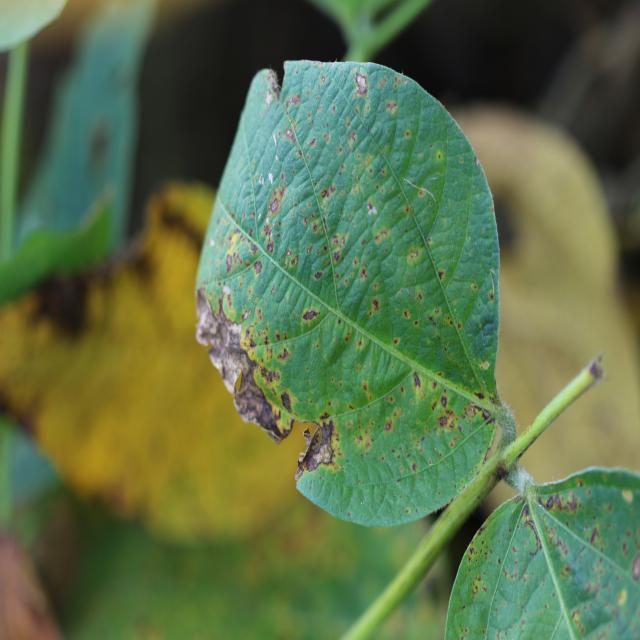Bacterial_Blight: (198, 281, 263, 404), (297, 417, 337, 473), (536, 489, 574, 515), (465, 402, 493, 424), (266, 66, 281, 97), (354, 72, 368, 95), (301, 309, 320, 321), (303, 426, 311, 444)
Soybean: (197, 61, 515, 525)
